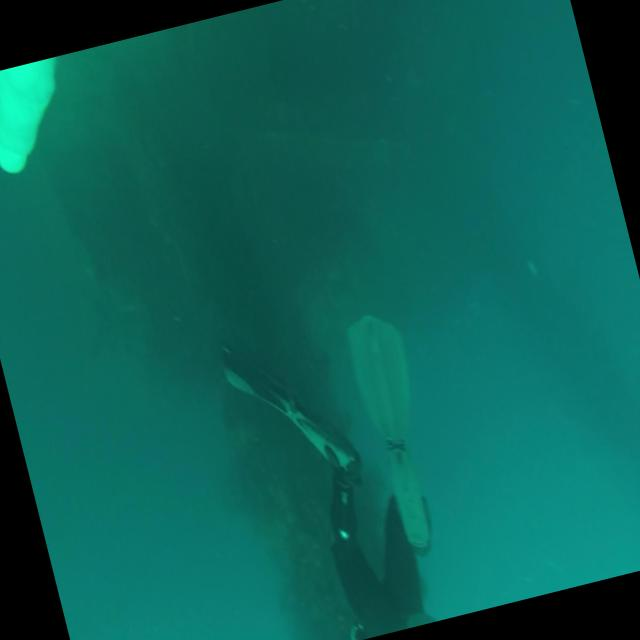human: (216, 301, 470, 640)
